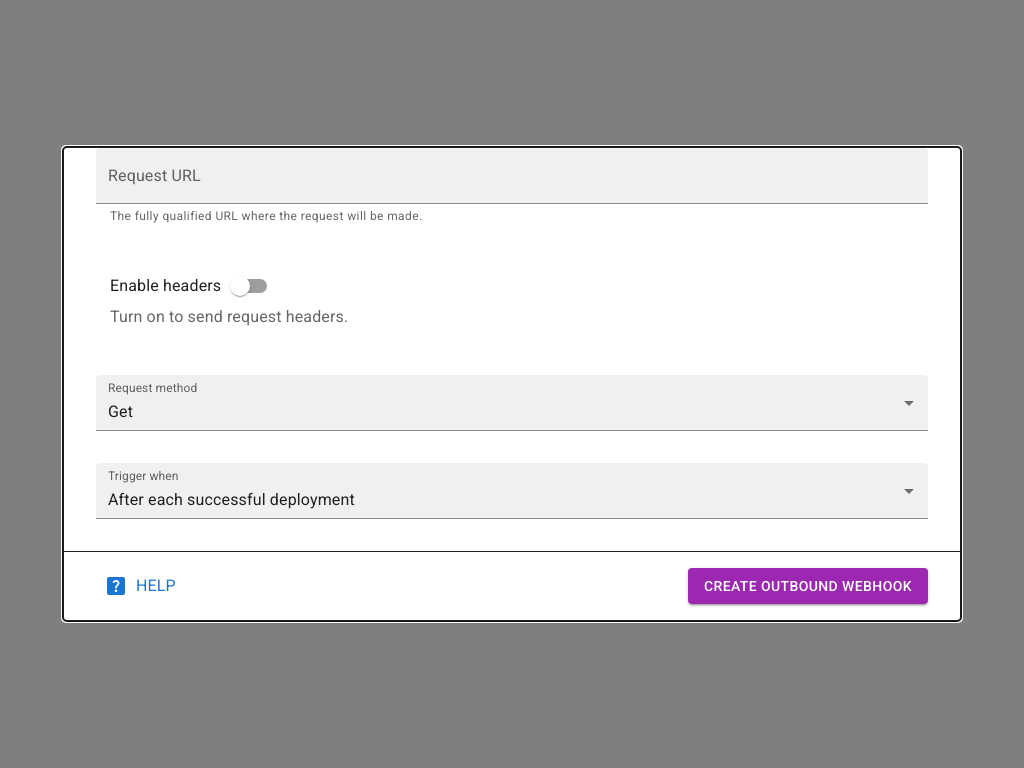
Test: ~/pages/apps/[id]/settings/_components/FormOutboundWebhookModal › create › displays request payload when request method is POST
Press the mouse on the dropdown "Get": point(121, 411) [108, 402, 133, 421]
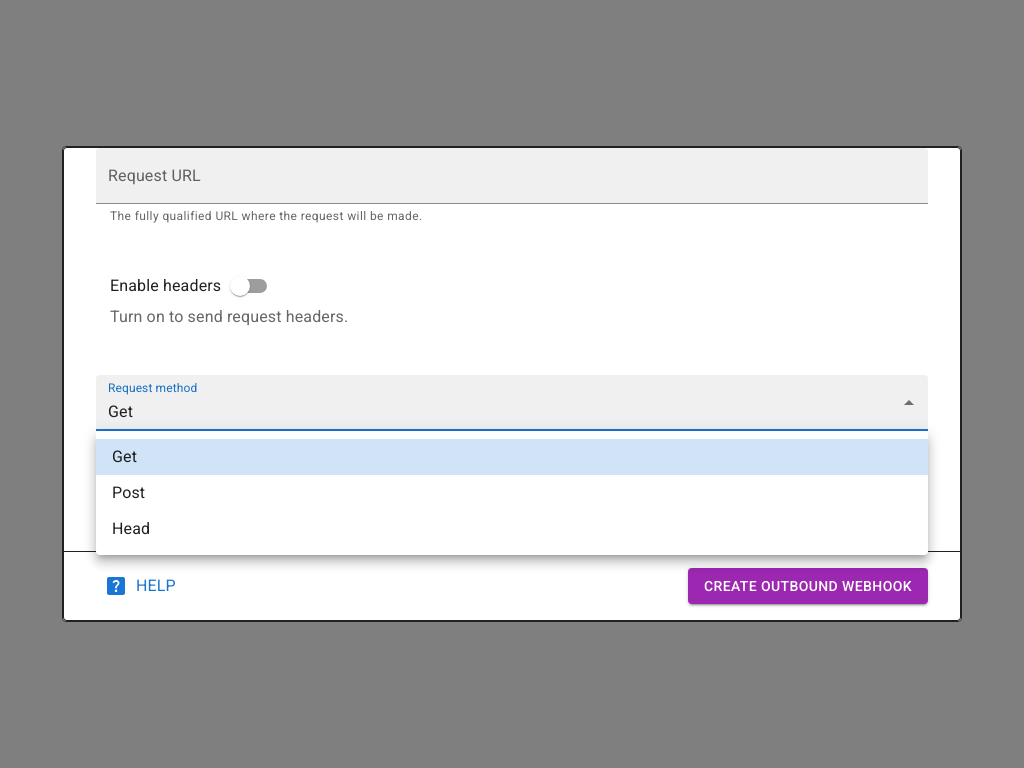
Click the option "Post": point(129, 492) [112, 483, 145, 502]
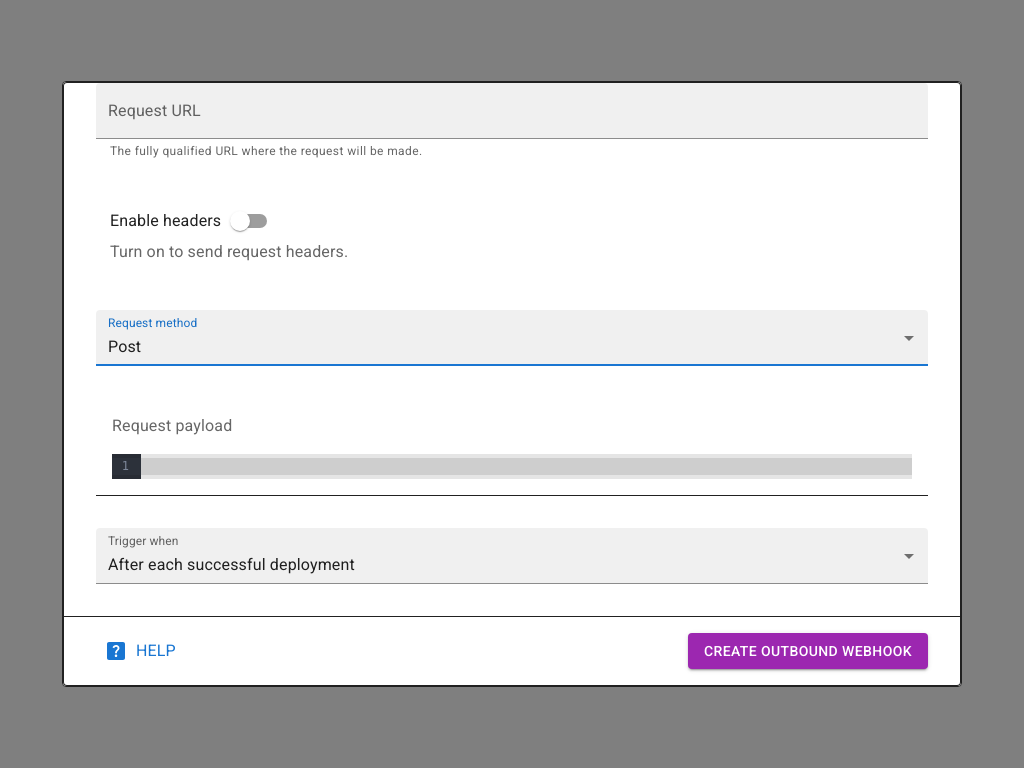
Check: the text "Request payload" is shown, box [112, 416, 232, 435]
